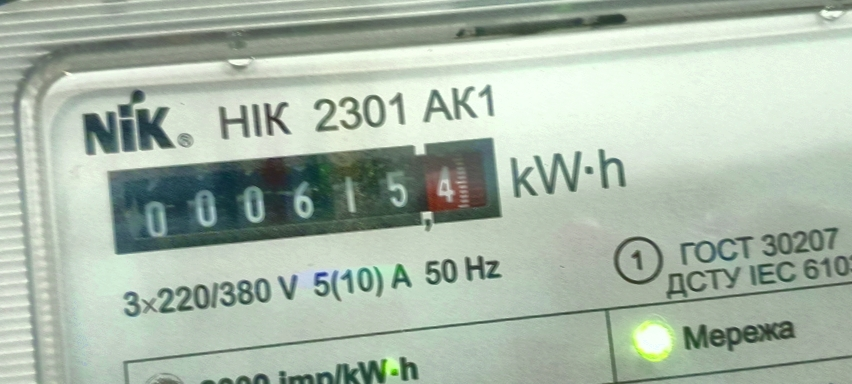0: (240, 179, 268, 224), (141, 194, 170, 237), (193, 184, 218, 225)
1: (342, 170, 358, 212)
4: (434, 160, 456, 202)
5: (384, 164, 410, 207)
6: (289, 175, 316, 218)
screen: (93, 122, 515, 264)
